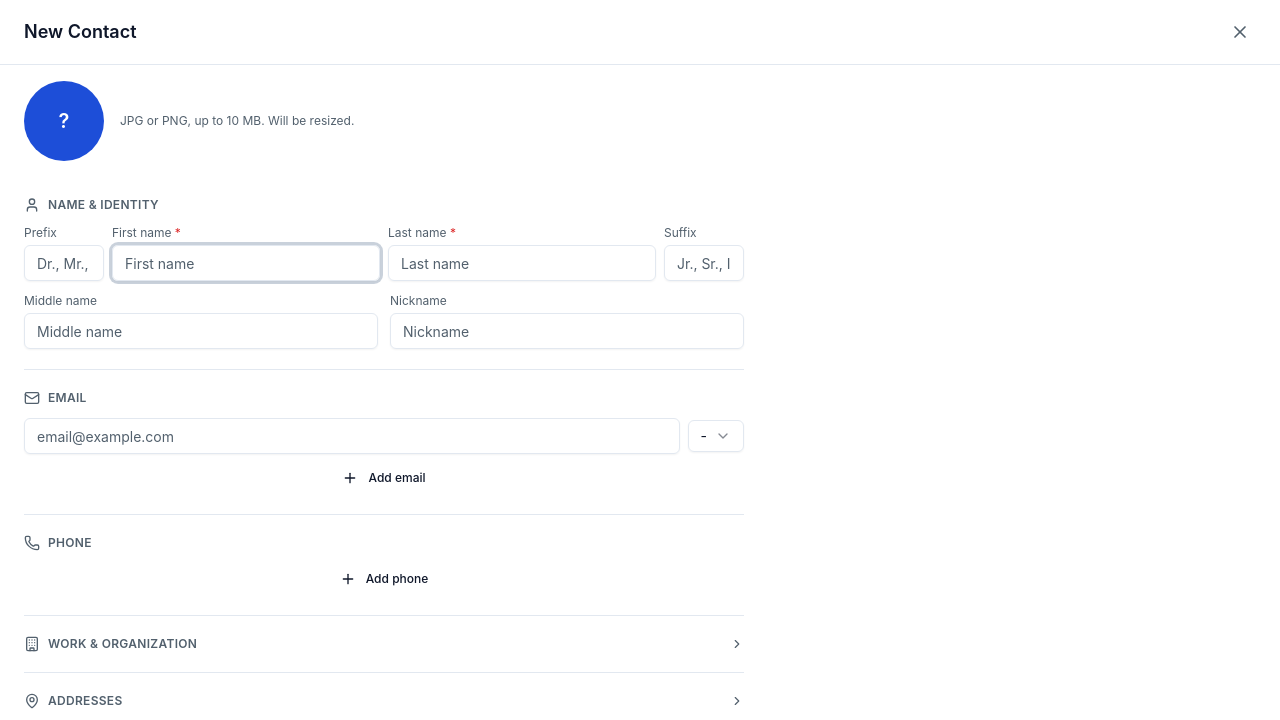
Test: ContactForm › adds email entry when add button is clicked
Click the button "Add email" at (384, 478), box [24,462,744,494]
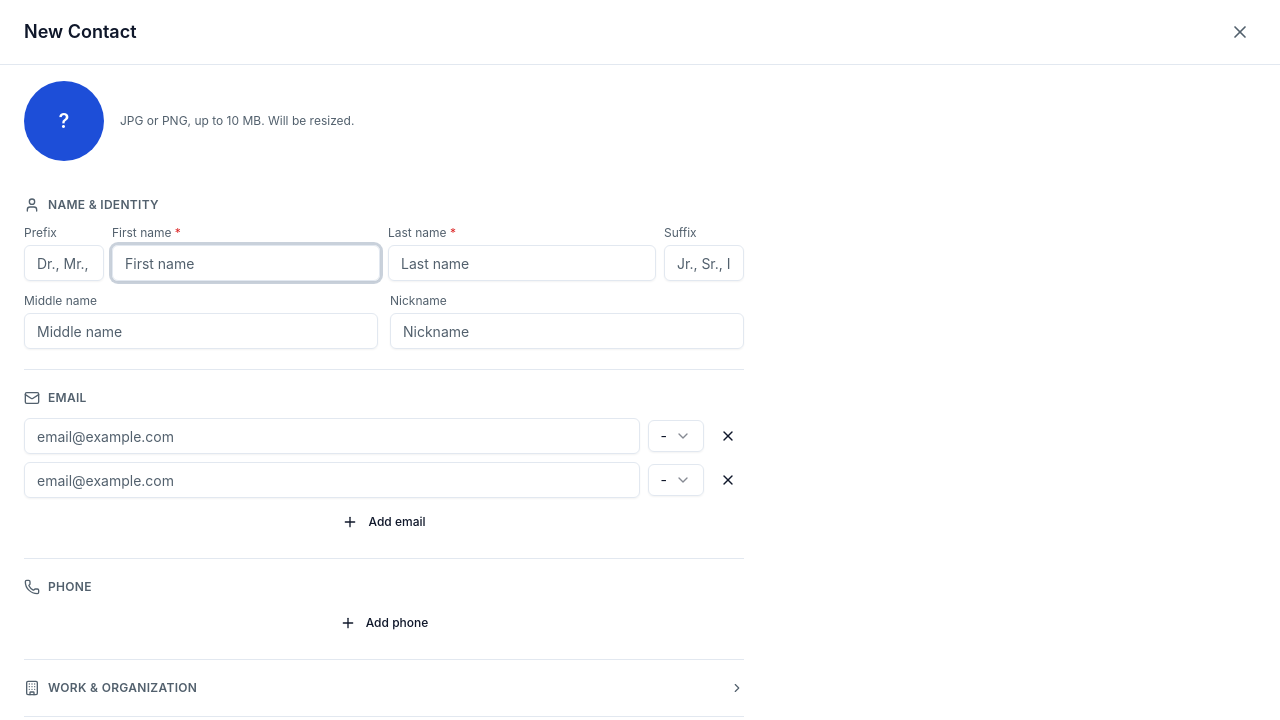
Expected: the number of fields with placeholder "email@example.com" is 2, [24,418,640,454]; [24,462,640,498]
